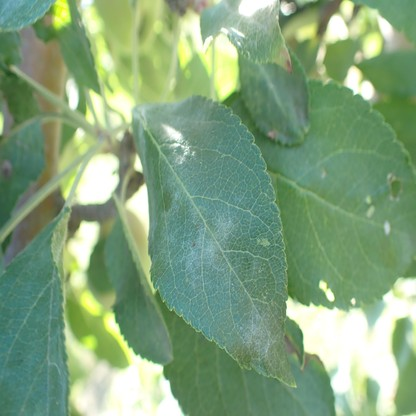powder: (182, 204, 235, 288), (156, 160, 184, 267), (237, 301, 280, 357)
